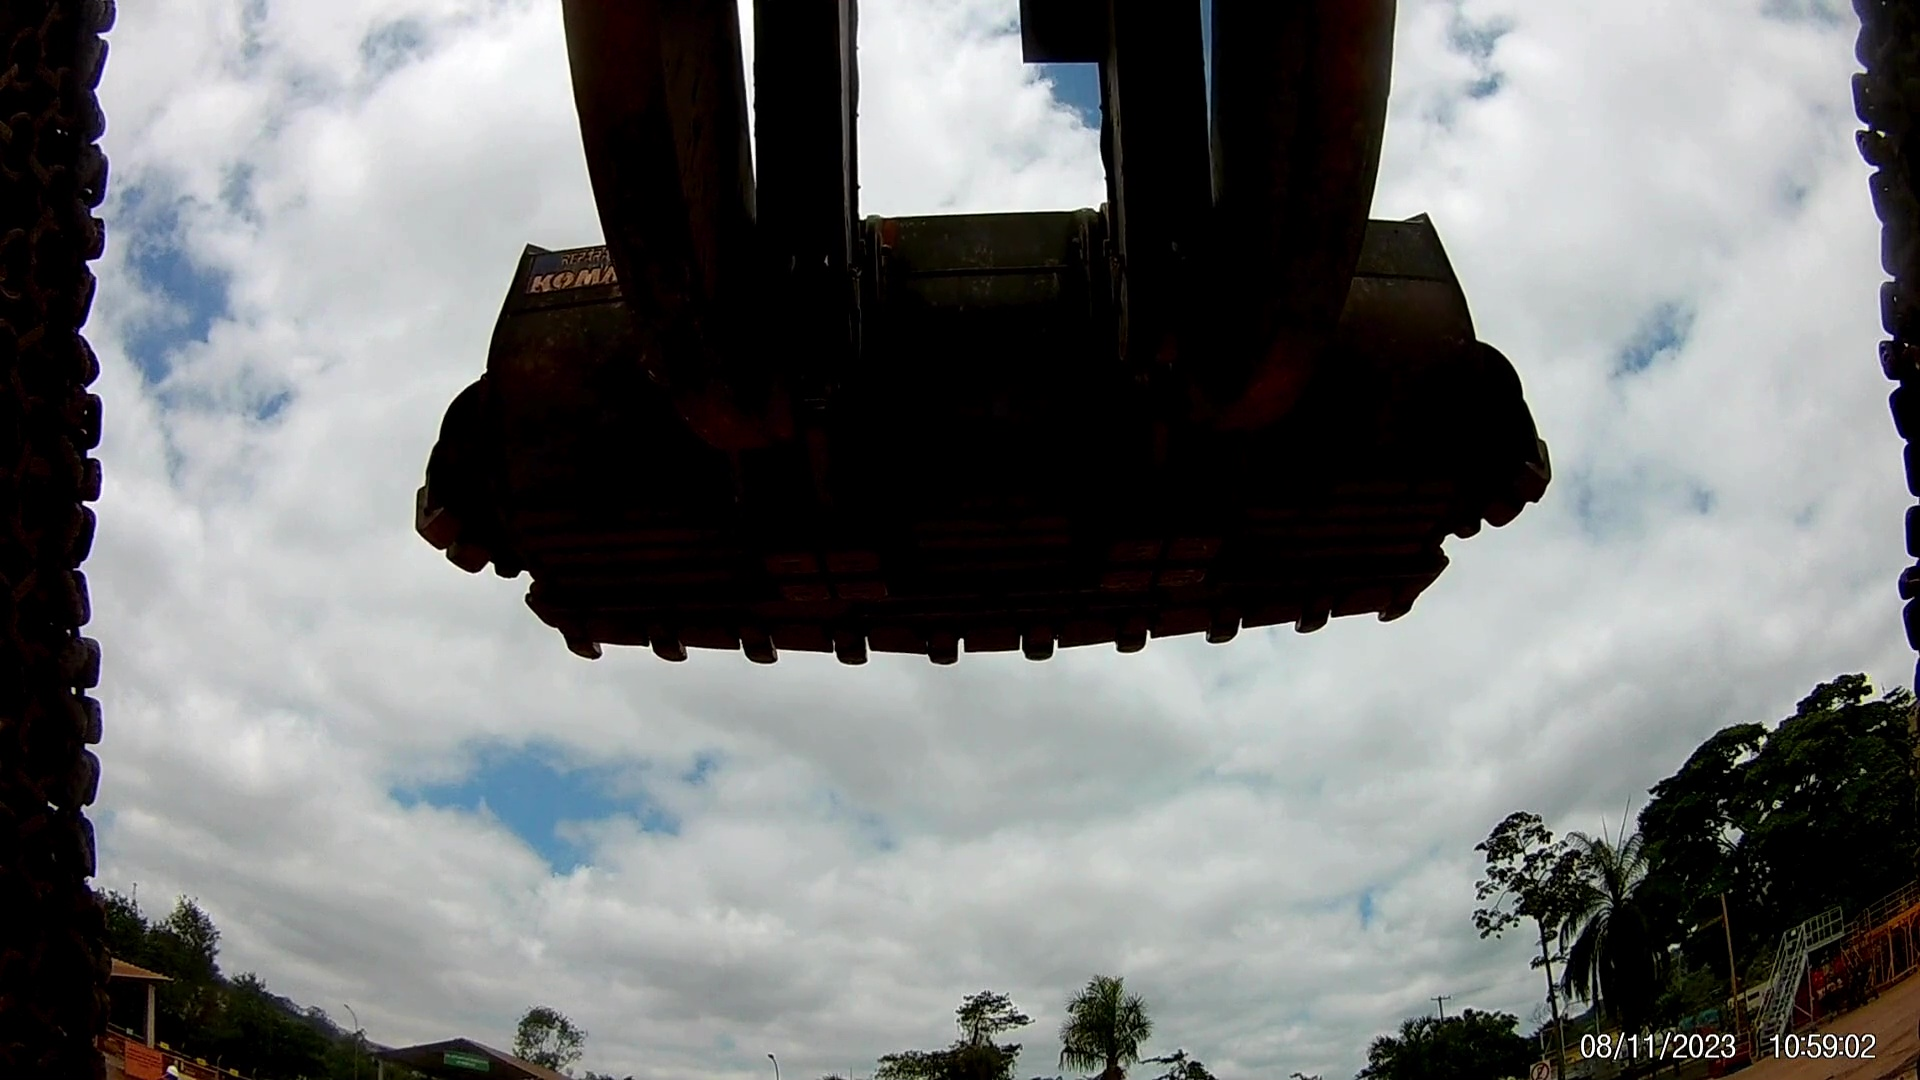FPS: (1367, 574, 1435, 650), (829, 611, 882, 694), (649, 617, 708, 688), (1284, 584, 1338, 659), (738, 618, 796, 686), (1106, 603, 1160, 673), (558, 622, 613, 684), (1030, 605, 1075, 679), (927, 618, 975, 680), (1208, 600, 1254, 662)
